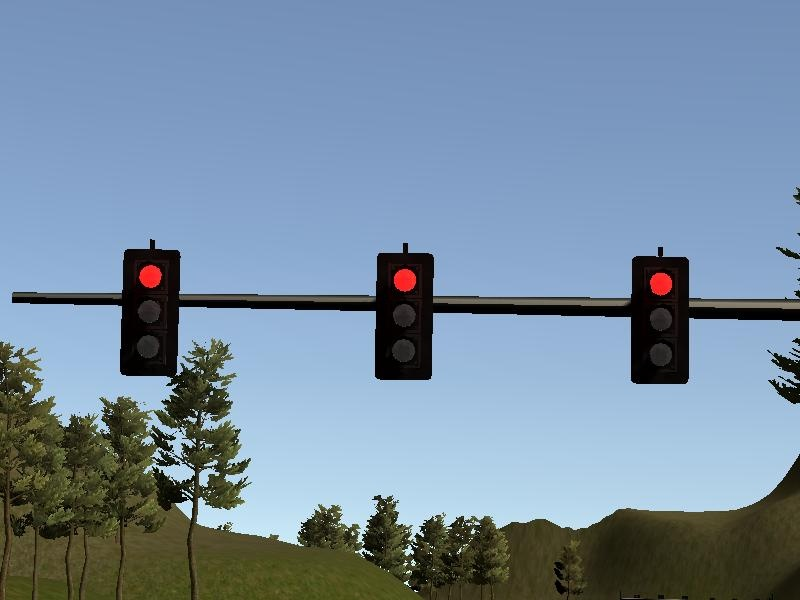red: (120, 247, 180, 376), (376, 251, 434, 381), (631, 257, 690, 384)
